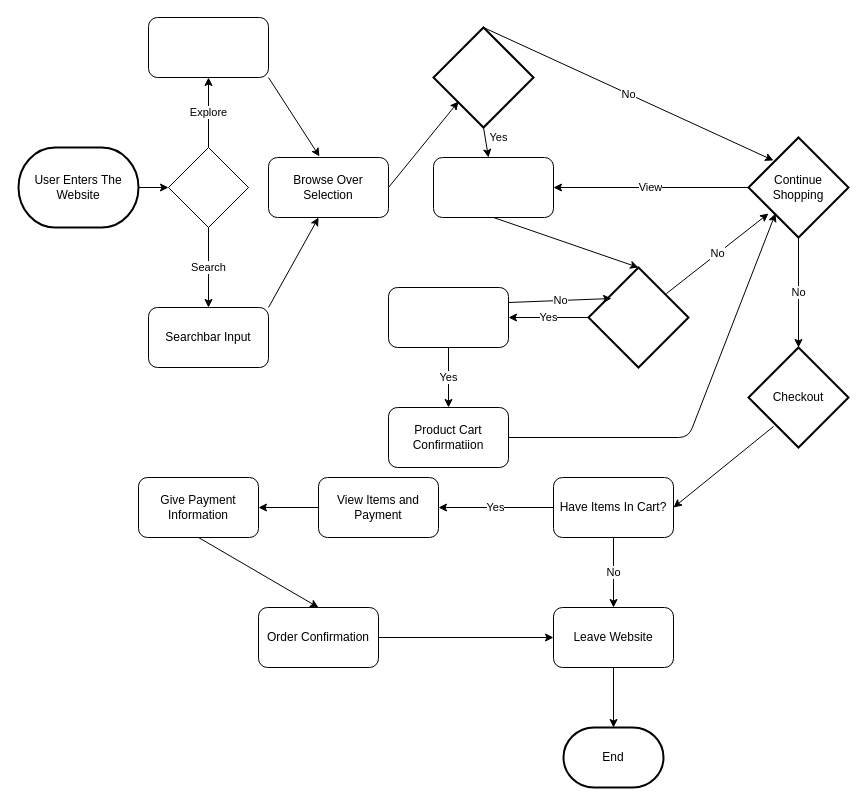
This 866x806 diagram has some shape labels left out. Each missing label, with the centre of its shape:
"Add to Cart" goes at point 638,317.
"Cart Confirmation Pop Up" goes at point 448,317.
"Explore Home Page" goes at point 208,47.
"Products" goes at point 208,187.
"Specific Product Webpage Opens" goes at point 493,187.
"View Product" goes at point 483,77.
